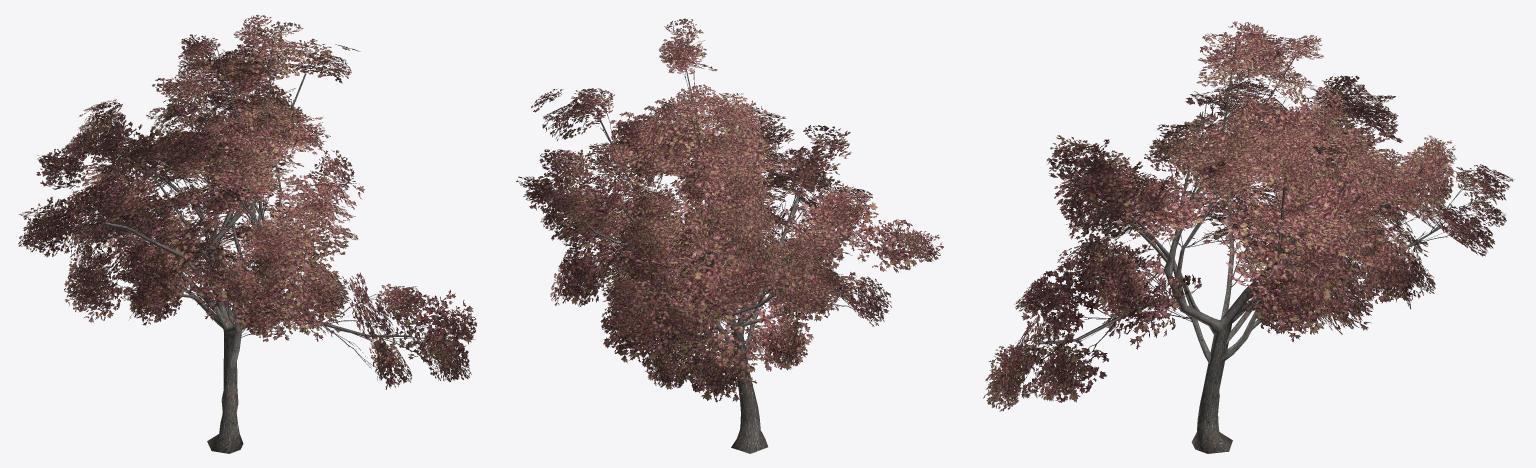
File: Japanese_Maple.fbx
3 renders of one model, left to right at view 1: azimuth 30°, elevation 25°; view 2: azimuth 150°, elevation 25°; view 3: azimuth 270°, elevation 25°, orthographic. The views are drawn at different scales.
Parts seen in each view (by area): view 1: Leaves_1, Leaves_2, Tree, Branch; view 2: Leaves_1, Leaves_2, Tree, Branch; view 3: Leaves_1, Leaves_2, Tree, Branch.
Boxes of the visible parts, left/top/right/bottom form: Leaves_1: left=18, top=15, right=476, bottom=389; Leaves_2: left=19, top=21, right=471, bottom=384; Tree: left=84, top=31, right=409, bottom=453; Branch: left=43, top=38, right=452, bottom=374; Leaves_1: left=516, top=32, right=943, bottom=402; Leaves_2: left=528, top=18, right=934, bottom=391; Tree: left=552, top=41, right=848, bottom=453; Branch: left=582, top=43, right=908, bottom=358; Leaves_1: left=988, top=21, right=1514, bottom=407; Leaves_2: left=983, top=23, right=1505, bottom=411; Tree: left=1035, top=41, right=1439, bottom=453; Branch: left=1012, top=44, right=1492, bottom=394.
Bounding box in the file's own units: 35.71 × 36.31 × 40.14.
